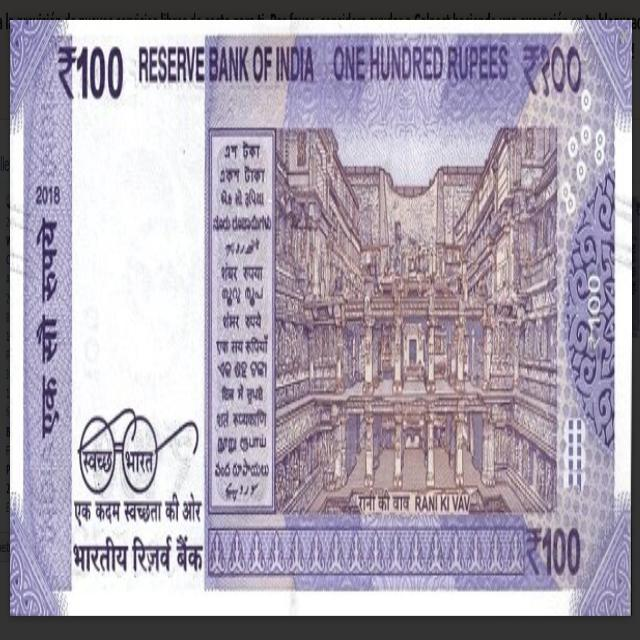100IndianRupees: (11, 21, 632, 612), (203, 23, 632, 613), (10, 23, 322, 614)
